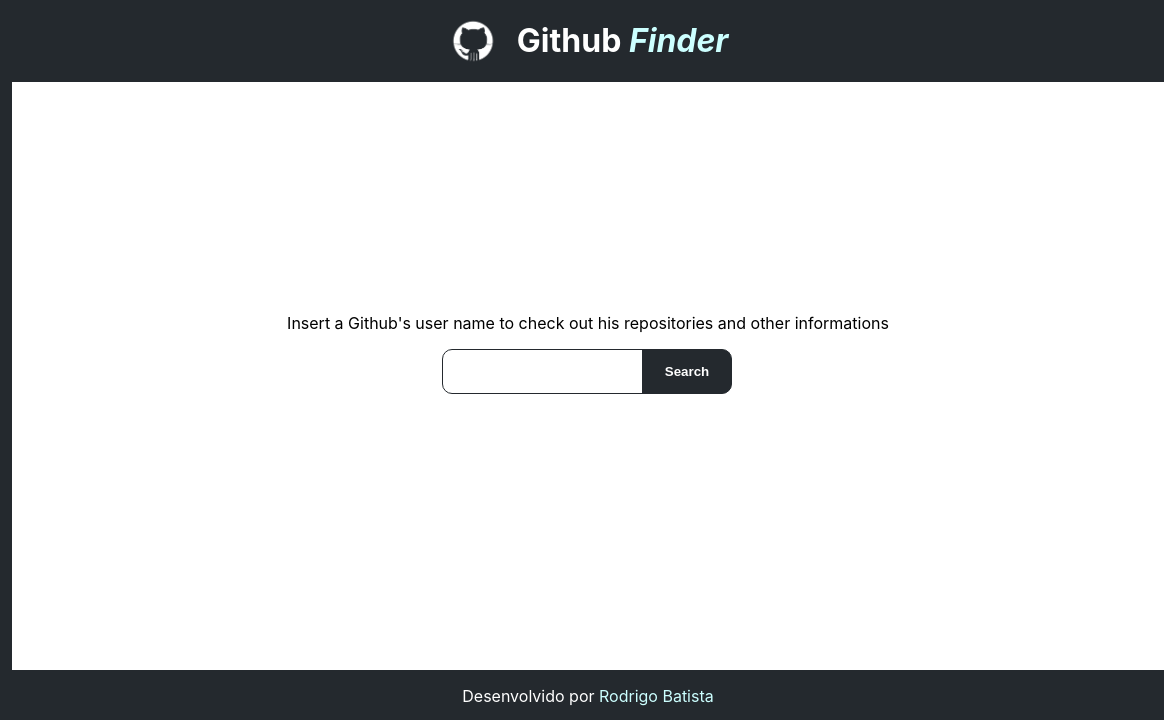
Insere o nome da pessoa usuária e renderiza os dados da pessoa › Ao receber um username sem repositórios, retorna a mensagem de sucesso dizendo que foram encontrados 0 repositórios
The width and height of the screenshot is (1164, 720).
Type "usuarioSemRepositarios" into the field at (543, 371), box [442,348,644,394]
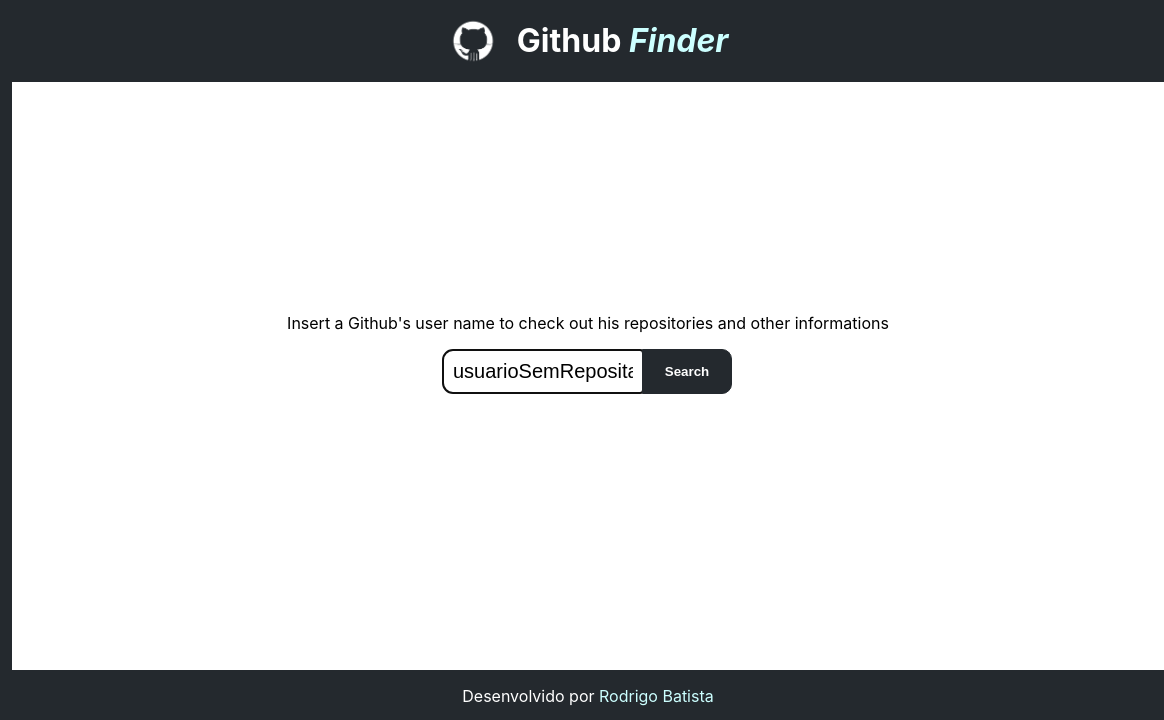
Click the button at (687, 371), box [642,348,732,394]
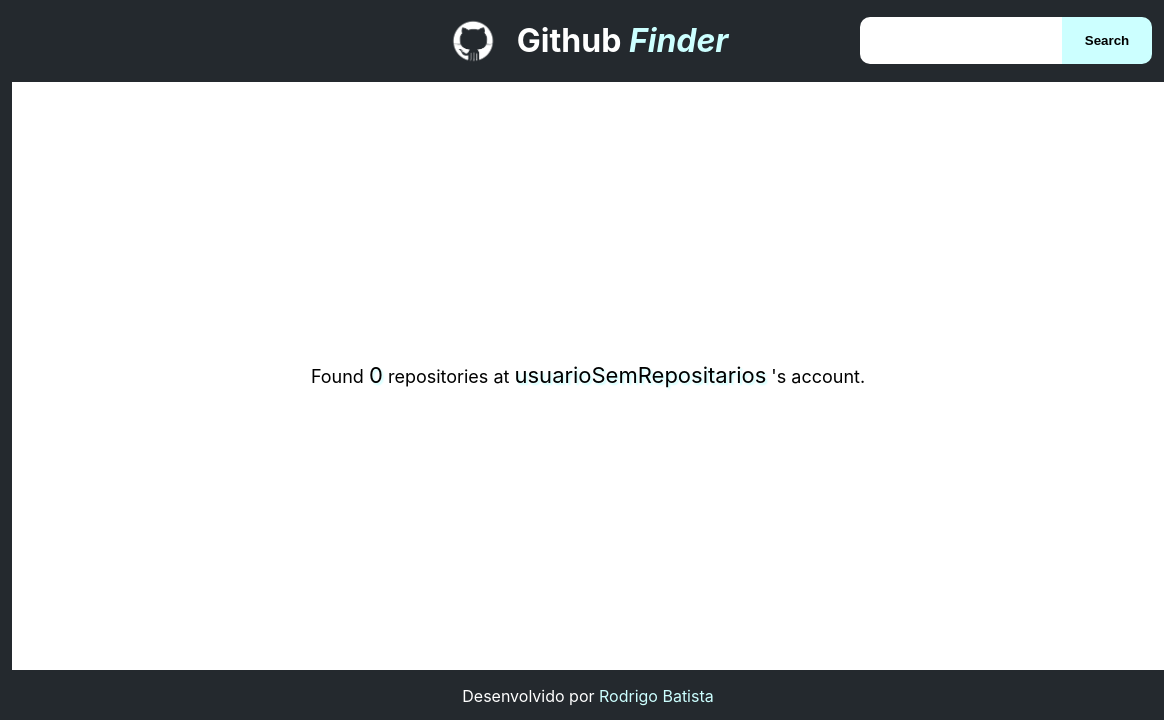
Expected: the text "Found 0 repositories at usuarioSemRepositarios 's account." is shown, [311,362,865,388]
Expected: the text "0" is shown, [369,362,383,388]
